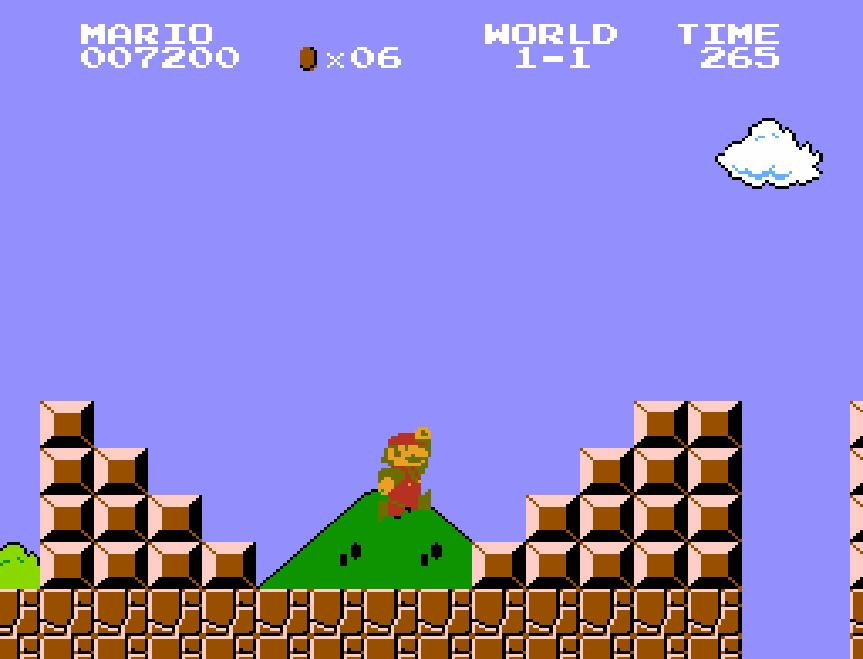big_mario: (376, 425, 434, 524)
